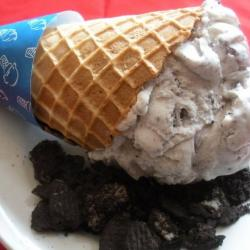icecream: (111, 6, 250, 184)
